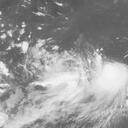cyclone: (82, 56, 126, 99)
